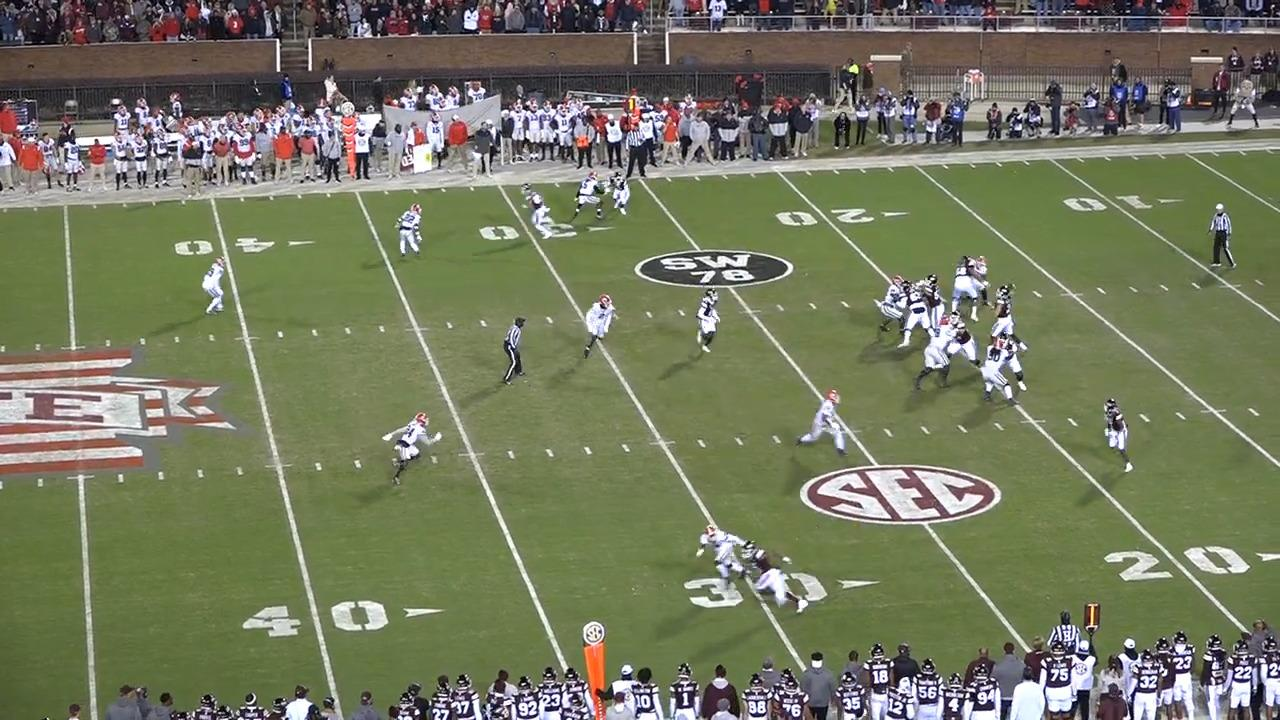defense: (385, 413, 446, 490), (700, 523, 754, 592), (798, 388, 849, 456), (911, 318, 954, 391), (980, 336, 1021, 408), (577, 293, 614, 360), (874, 277, 909, 339), (570, 172, 606, 225), (201, 259, 231, 319), (395, 201, 424, 258), (964, 256, 989, 305)
oline: (897, 284, 935, 352), (942, 311, 981, 372), (996, 333, 1030, 396), (949, 255, 982, 317), (918, 275, 948, 337)
qb: (985, 281, 1017, 344)
ref: (497, 318, 526, 391), (1208, 201, 1238, 269), (1051, 605, 1084, 656), (625, 123, 652, 183)
skill: (743, 539, 812, 620), (1105, 394, 1140, 474), (699, 289, 726, 359), (521, 183, 556, 233), (605, 170, 631, 221)
